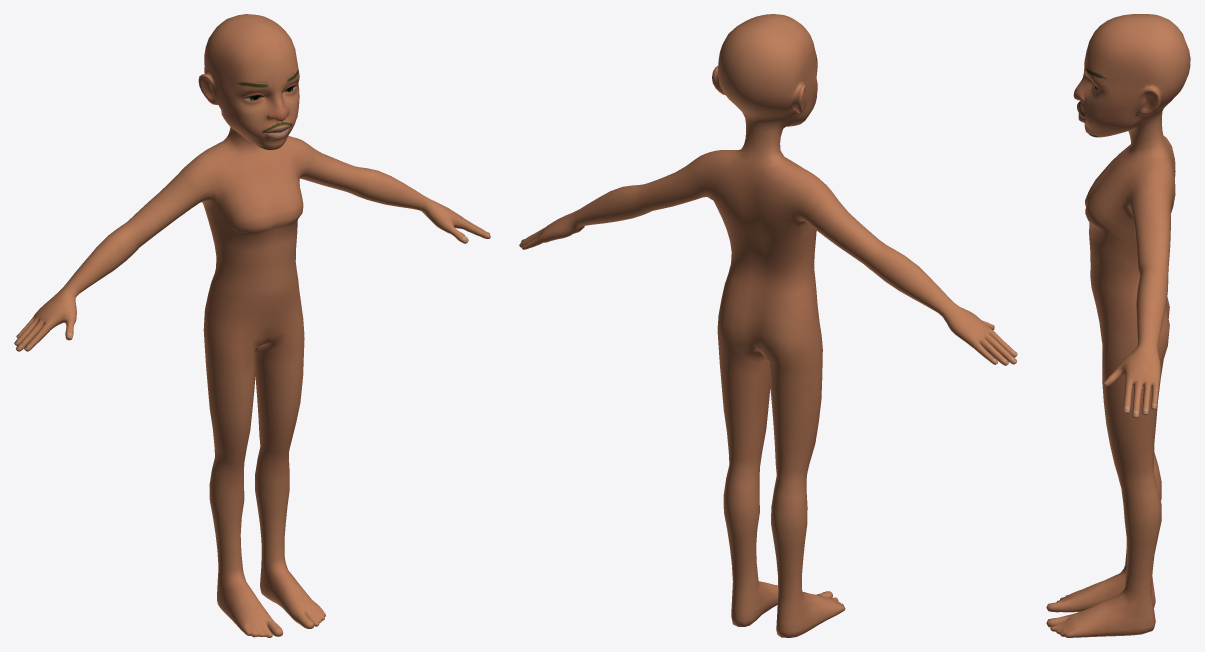
Rendered from frame_0004.glb.
3 renders of one model, left to right at view 1: azimuth 30°, elevation 25°; view 2: azimuth 150°, elevation 25°; view 3: azimuth 270°, elevation 25°, orthographic. The views are drawn at different scales.
Visible parts, largest first — view 1: frame_0004_head_geo; view 2: frame_0004_head_geo; view 3: frame_0004_head_geo.
Boxes of the visible parts, x1=… form: frame_0004_head_geo: x1=14, y1=14, x2=490, y2=637; frame_0004_head_geo: x1=519, y1=14, x2=1017, y2=637; frame_0004_head_geo: x1=1046, y1=14, x2=1190, y2=637.
Size of the model in its own units: 1.28 by 1.5 by 0.3253.
3 materials, 3 textured.
